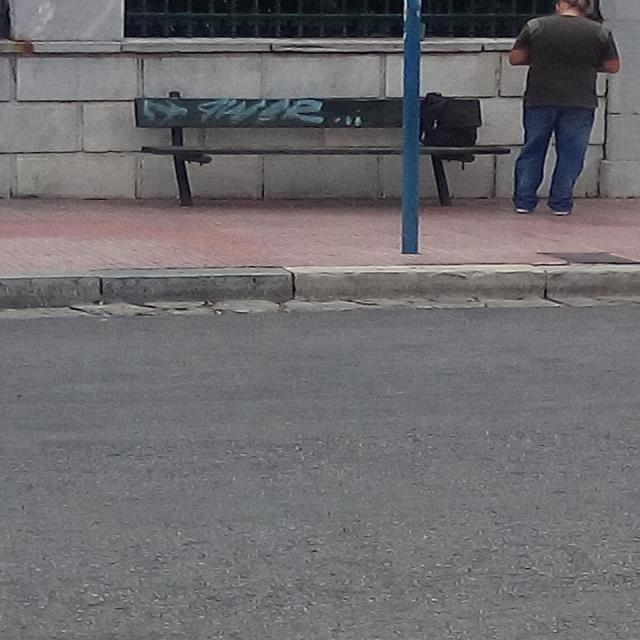nonspitting: (142, 97, 365, 128)
